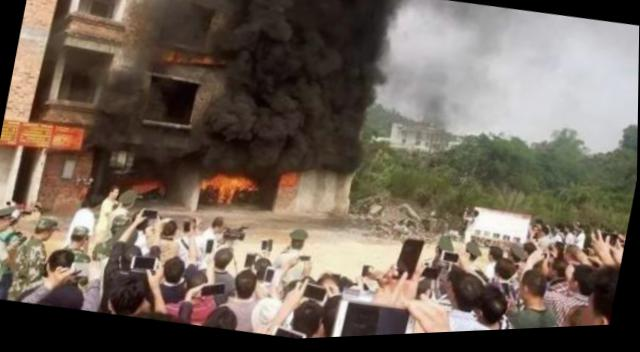fire: (204, 171, 260, 196), (219, 188, 237, 206)
